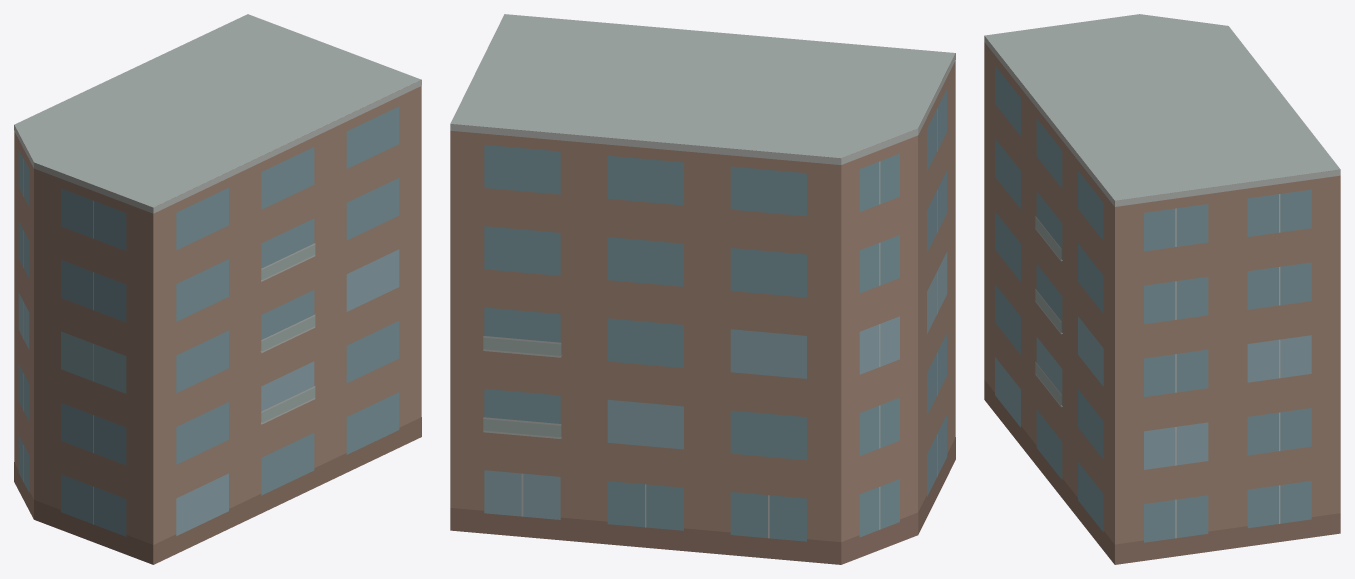
Rendered from survey-upis-32699234.glb.
3 views of the same model, side by side, from view 1: azimuth 30°, elevation 25°; view 2: azimuth 150°, elevation 25°; view 3: azimuth 270°, elevation 25° (orthographic). The views are drawn at different scales.
Parts seen in each view (by area): view 1: survey-upis-32699234.tmp; view 2: survey-upis-32699234.tmp; view 3: survey-upis-32699234.tmp.
Boxes of the visible parts, x1,y1,x2,y2 form: survey-upis-32699234.tmp: (14,14,421,564); survey-upis-32699234.tmp: (450,14,955,564); survey-upis-32699234.tmp: (984,14,1340,564).
Bounding box in the file's own units: 15.74 × 14.3 × 12.69.
